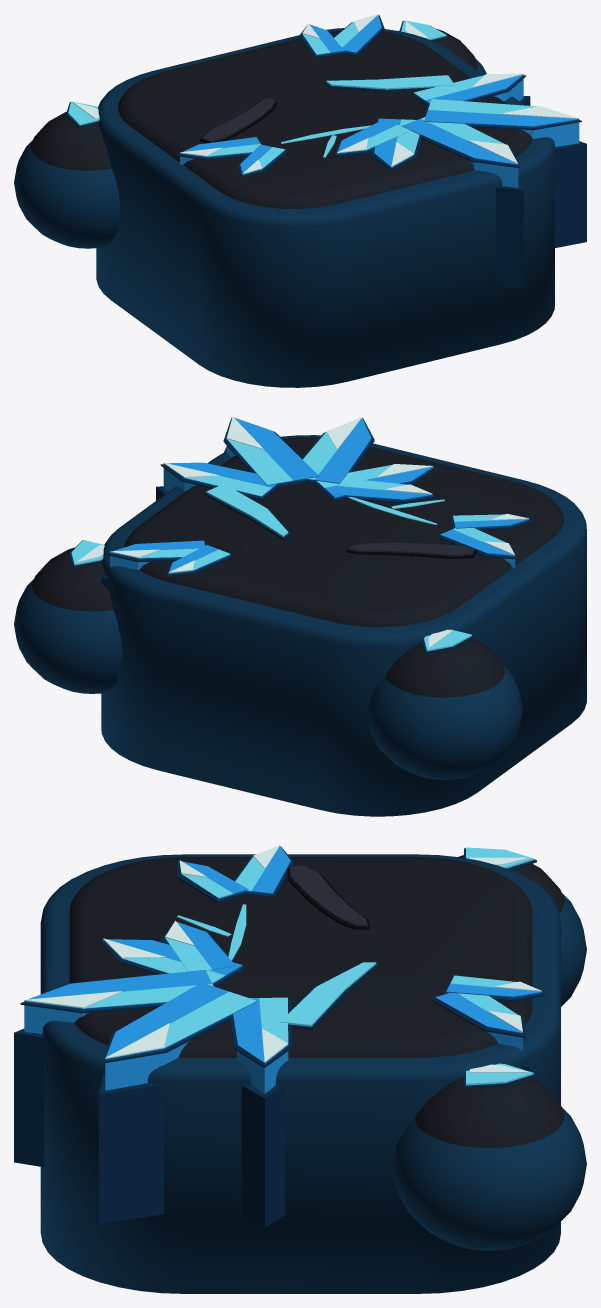
The model's file is body_cristal_abissal.fbx.
3 views of the same model, one above another, from view 1: azimuth 30°, elevation 25°; view 2: azimuth 150°, elevation 25°; view 3: azimuth 270°, elevation 25° (orthographic). The views are drawn at different scales.
Parts seen in each view (by area): view 1: body_cristal_abissal_corpo, body_cristal_abissal_corpo_neon, body_cristal_abissal_mao_esq, body_cristal_abissal_mao; view 2: body_cristal_abissal_corpo, body_cristal_abissal_mao_esq, body_cristal_abissal_corpo_neon, body_cristal_abissal_mao; view 3: body_cristal_abissal_corpo, body_cristal_abissal_mao, body_cristal_abissal_corpo_neon, body_cristal_abissal_mao_esq.
Boxes of the visible parts, x1,y1,x2,y2 form: body_cristal_abissal_corpo: (96,15,586,387); body_cristal_abissal_corpo_neon: (180,14,579,174); body_cristal_abissal_mao_esq: (14,101,120,248); body_cristal_abissal_mao: (399,20,486,75); body_cristal_abissal_corpo: (101,417,586,816); body_cristal_abissal_mao_esq: (367,629,522,779); body_cristal_abissal_corpo_neon: (110,416,529,573); body_cristal_abissal_mao: (14,540,122,693); body_cristal_abissal_corpo: (14,847,560,1293); body_cristal_abissal_mao: (392,1063,586,1250); body_cristal_abissal_corpo_neon: (24,845,541,1063); body_cristal_abissal_mao_esq: (459,847,586,1006).
Size of the model in its own units: 5.4 by 2.05 by 4.41.
Materials: 1 (1 with a texture image).
